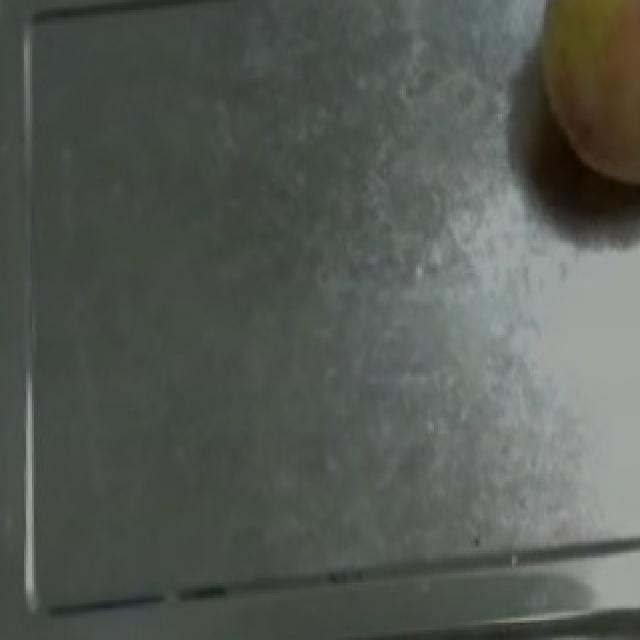Fruit: (504, 0, 640, 213)
